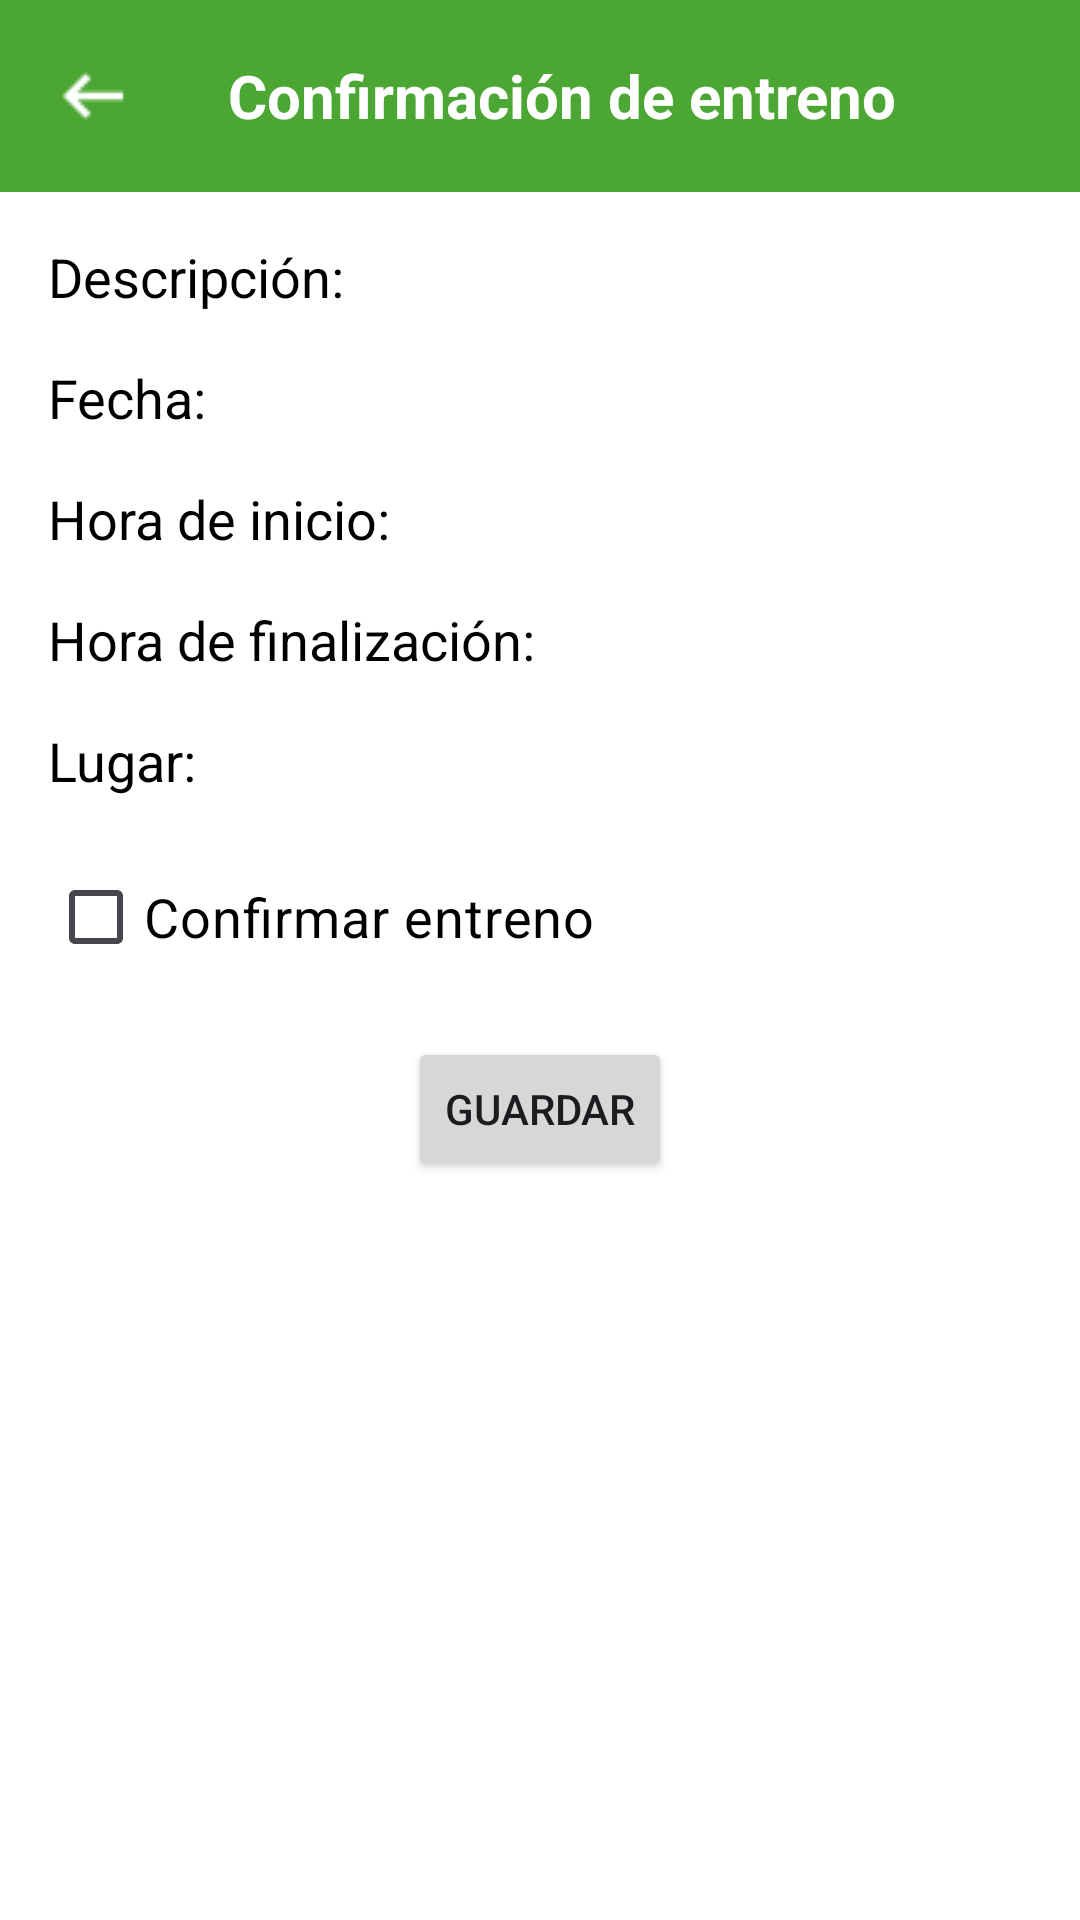

Locate icon controls on the screen. Image size 1080w x 1920h, boxes as (x1, y1, x2, y2).
short left: (62, 72, 124, 120)
